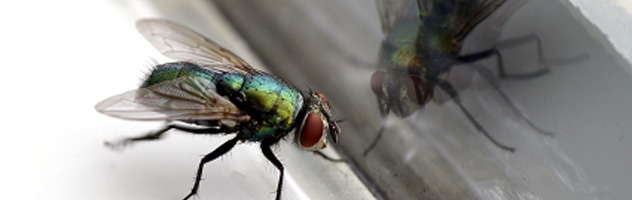fly: (91, 14, 349, 200)
